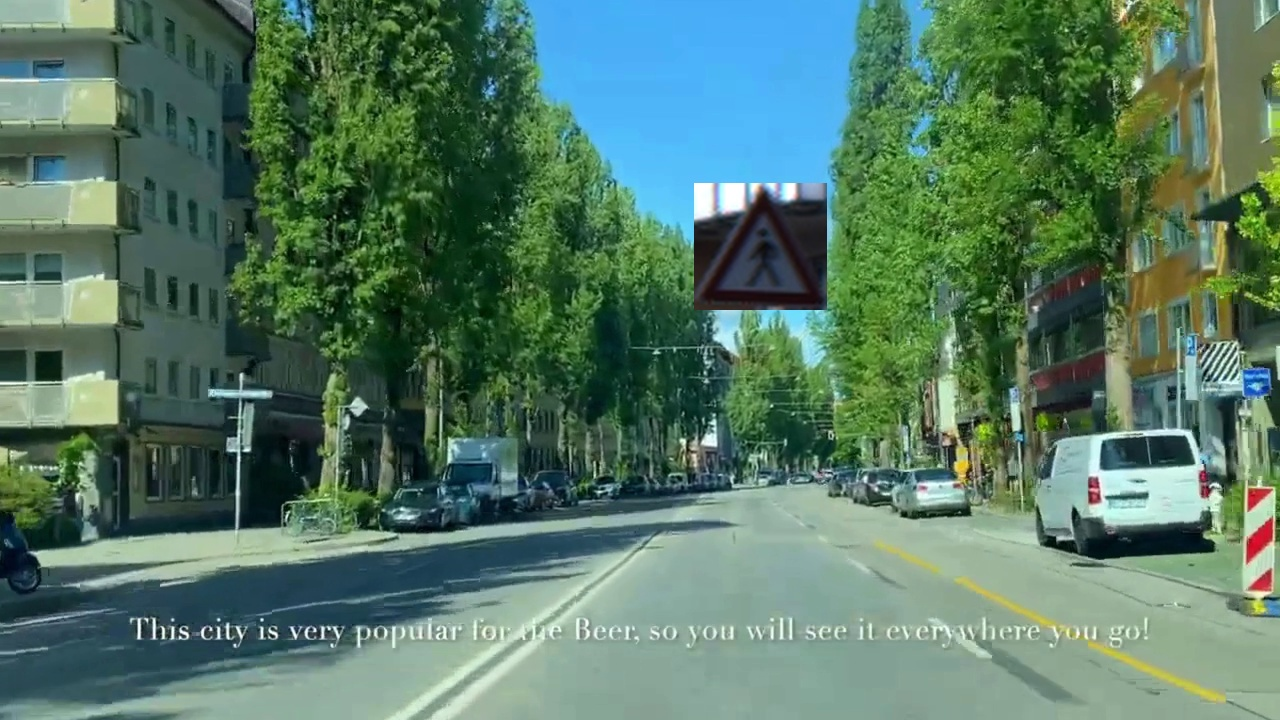Pedestrians: (694, 183, 827, 310)
